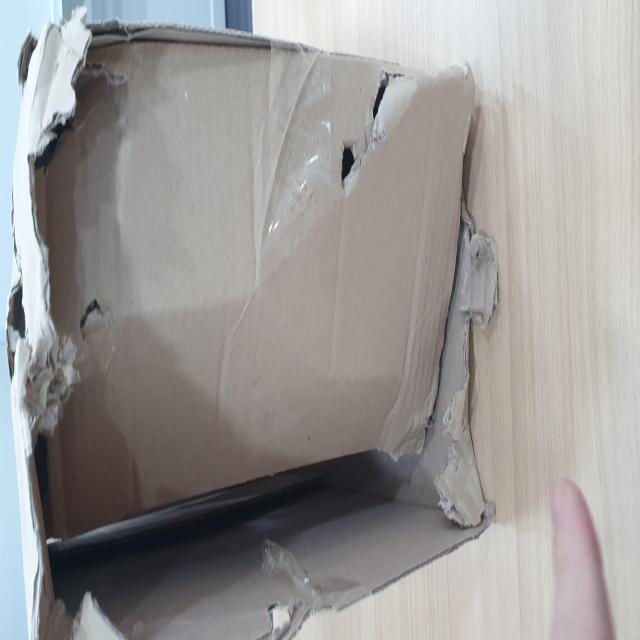damaged: (139, 11, 205, 57), (256, 598, 284, 640)
